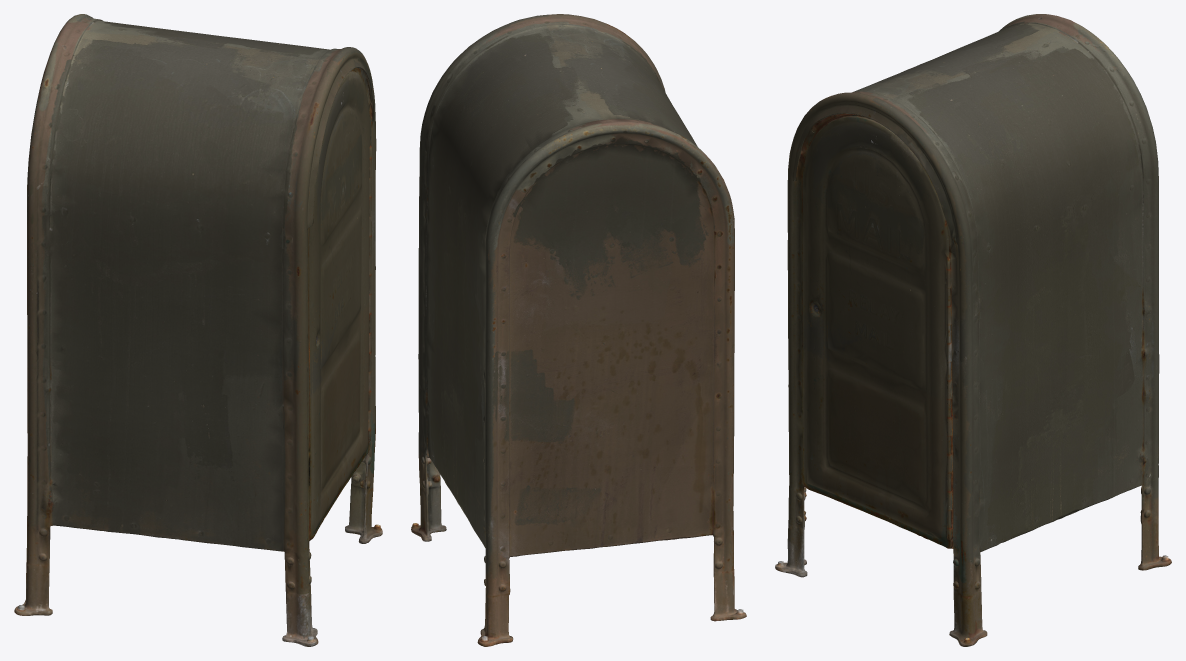
The model's file is mailbox_01_-_3d_scan_quixel_megascans.glb.
The picture shows the model from 3 angles, left to right: view 1: azimuth 30°, elevation 25°; view 2: azimuth 150°, elevation 25°; view 3: azimuth 270°, elevation 25°; orthographic projection. The views are drawn at different scales.
Visible parts, largest first — view 1: Aset_street__L_ujijbfhba_LOD0_2; view 2: Aset_street__L_ujijbfhba_LOD0_2; view 3: Aset_street__L_ujijbfhba_LOD0_2.
Boxes of the visible parts, left/top/right/bottom form: Aset_street__L_ujijbfhba_LOD0_2: left=14, top=14, right=382, bottom=646; Aset_street__L_ujijbfhba_LOD0_2: left=411, top=14, right=746, bottom=646; Aset_street__L_ujijbfhba_LOD0_2: left=775, top=14, right=1171, bottom=646.
Bounding box in the file's own units: 0.8891 × 1.26 × 0.894.
1 material, 1 textured.
